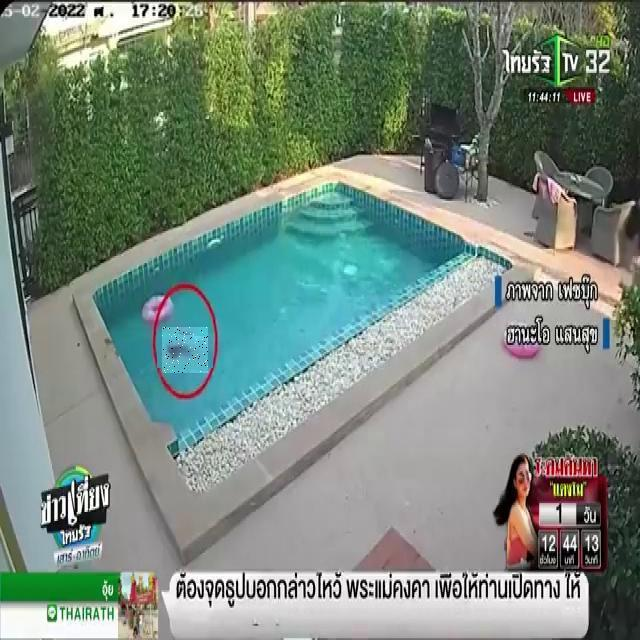Out of Water: (162, 327, 208, 373)
